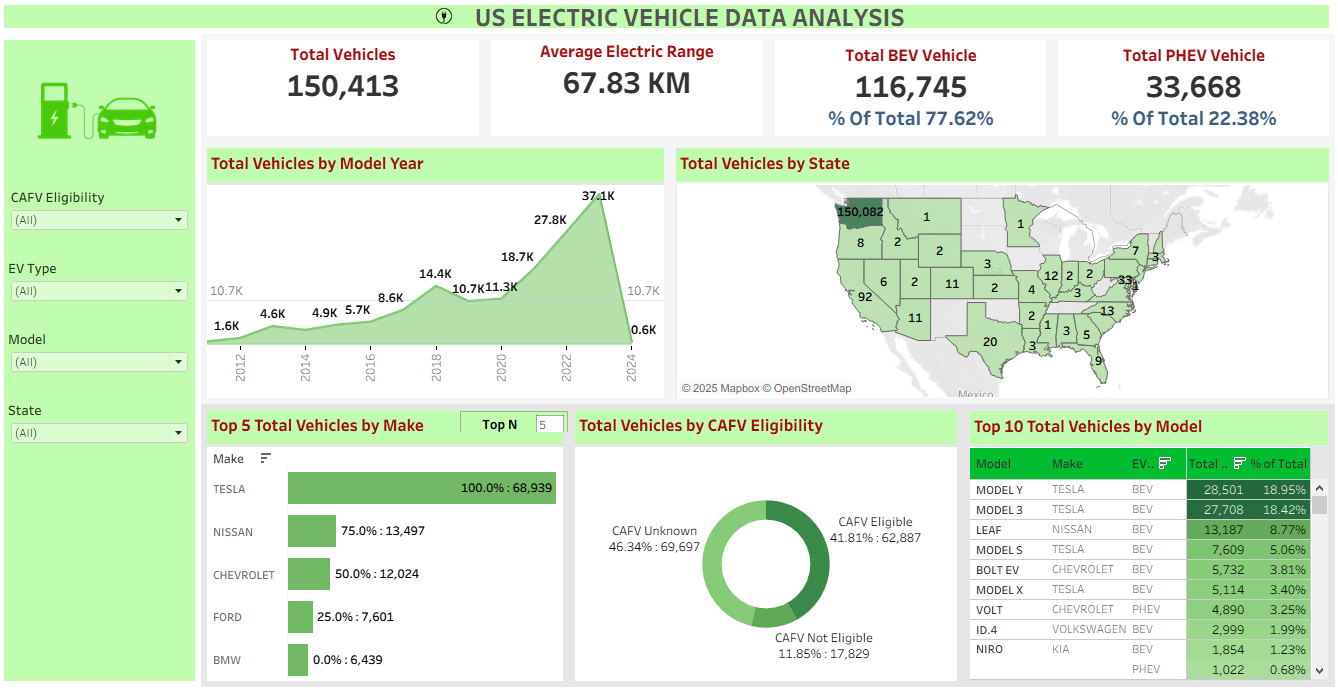

Layout of this report page (visuals, bound fields, positions):
{"tool":"tableau","page":{"name":"Dashboard 1","canvas":[1000,1000],"units":"permille","ordinal":0},"visuals":[{"type":"title","box":[4.6,8.6,990.8,50]},{"type":"image","param":"Image/c766ac7b-00b4-45bb-a949-5fd2ae1e1f6e.png","box":[318.5,17.1,32.3,30]},{"type":"worksheet","title":"Total Vehicles","mark":"Automatic","box":[155.4,58.6,210,154.3]},{"type":"worksheet","title":"Average Electric Range","mark":"Automatic","box":[365.4,58.6,210,154.3]},{"type":"worksheet","title":"Total BEV Vehicle","mark":"Automatic","box":[575.4,58.6,210,154.3]},{"type":"worksheet","title":"Total PHEV Vehicle","mark":"Automatic","box":[785.4,58.6,210,154.3]},{"type":"blank","box":[9.2,67.1,141.5,102.9]},{"type":"image","param":"Image/9f3bea56-09e9-4849-b6f8-9f9d06712f83.png","box":[13.8,67.1,127.7,201.4]},{"type":"blank","box":[9.2,170,141.5,102.9]},{"type":"worksheet","title":"Total Vehicles by Model Year","mark":"Area","rows":["Calculation_890023923560542208","Calculation_890023923560542208"],"cols":["Model Year"],"box":[155.3,212.6,360.8,374.1]},{"type":"worksheet","title":"Total Vehicles by State","mark":"Multipolygon","box":[516,212.6,479.3,374.1]},{"type":"filter","title":"Total Vehicles by State","param":"[federated.1h1rfsy1g53xpb12k3ek61iydo7q].[none:Clean Alternative Fuel Vehicle (C","box":[9.2,272.9,141.5,101.4]},{"type":"filter","title":"Total Vehicles by State","param":"[federated.1h1rfsy1g53xpb12k3ek61iydo7q].[none:Electric Vehicle Type:nk]","box":[9.2,374.3,141.5,101.4]},{"type":"filter","title":"Total Vehicles by State","param":"[federated.1h1rfsy1g53xpb12k3ek61iydo7q].[none:Model:nk]","box":[9.2,475.7,141.5,101.4]},{"type":"filter","title":"Total Vehicles by State","param":"[federated.1h1rfsy1g53xpb12k3ek61iydo7q].[none:State:nk]","box":[9.2,577.1,141.5,101.4]},{"type":"worksheet","title":"Top 10 Total Vehicles by Make","mark":"Automatic","rows":["Make"],"cols":["Calculation_890023923560542208"],"box":[155.3,586.7,283.1,404.7]},{"type":"worksheet","title":"Total Vehicles by CAFV Eligibility","mark":"Pie","rows":["Calculation_890023923599732745","Calculation_890023923599732745"],"box":[438.4,586.7,270.9,404.7]},{"type":"worksheet","title":"Top 10 Total Vehicles by Model","mark":"Square","rows":["Model","Make","Electric Vehicle Type"],"box":[709.2,586.7,286.2,404.7]},{"type":"parameter","param":"[Parameters].[Parameter 1]","box":[346.9,596.7,80,31.1]},{"type":"blank","box":[9.2,678.6,141.5,101.4]},{"type":"blank","box":[9.2,780,141.5,101.4]},{"type":"text","box":[9.2,881.4,141.5,101.4]}]}

Visuals, with their boxes on the dashboard's canvas, which has no fixed pixel size, in thousandths of its width and height (x1, y1, x2, y2). These are canvas units, not pixel positions in the 1338x690 screenshot, which may show the page scaled, cropped or inside an application window:
title: {"left": 5, "top": 9, "right": 995, "bottom": 59}
image: {"left": 318, "top": 17, "right": 351, "bottom": 47}
"Total Vehicles" worksheet: {"left": 155, "top": 59, "right": 365, "bottom": 213}
"Average Electric Range" worksheet: {"left": 365, "top": 59, "right": 575, "bottom": 213}
"Total BEV Vehicle" worksheet: {"left": 575, "top": 59, "right": 785, "bottom": 213}
"Total PHEV Vehicle" worksheet: {"left": 785, "top": 59, "right": 995, "bottom": 213}
blank: {"left": 9, "top": 67, "right": 151, "bottom": 170}
image: {"left": 14, "top": 67, "right": 142, "bottom": 268}
blank: {"left": 9, "top": 170, "right": 151, "bottom": 273}
"Total Vehicles by Model Year" worksheet (Area marks): {"left": 155, "top": 213, "right": 516, "bottom": 587}
"Total Vehicles by State" worksheet (Multipolygon marks): {"left": 516, "top": 213, "right": 995, "bottom": 587}
"Total Vehicles by State" filter: {"left": 9, "top": 273, "right": 151, "bottom": 374}
"Total Vehicles by State" filter: {"left": 9, "top": 374, "right": 151, "bottom": 476}
"Total Vehicles by State" filter: {"left": 9, "top": 476, "right": 151, "bottom": 577}
"Total Vehicles by State" filter: {"left": 9, "top": 577, "right": 151, "bottom": 678}
"Top 10 Total Vehicles by Make" worksheet: {"left": 155, "top": 587, "right": 438, "bottom": 991}
"Total Vehicles by CAFV Eligibility" worksheet (Pie marks): {"left": 438, "top": 587, "right": 709, "bottom": 991}
"Top 10 Total Vehicles by Model" worksheet (Square marks): {"left": 709, "top": 587, "right": 995, "bottom": 991}
parameter: {"left": 347, "top": 597, "right": 427, "bottom": 628}
blank: {"left": 9, "top": 679, "right": 151, "bottom": 780}
blank: {"left": 9, "top": 780, "right": 151, "bottom": 881}
text: {"left": 9, "top": 881, "right": 151, "bottom": 983}
